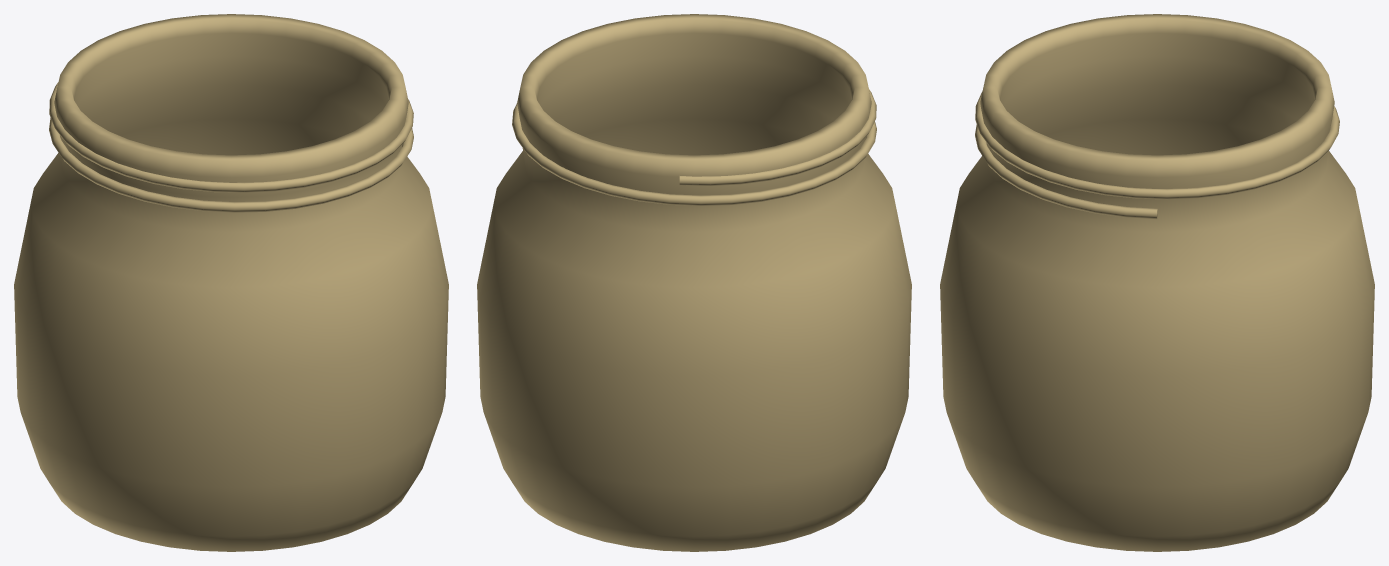
Rendered from pickleGlass.glb.
3 renders of one model, left to right at view 1: azimuth 30°, elevation 25°; view 2: azimuth 150°, elevation 25°; view 3: azimuth 270°, elevation 25°, orthographic.
Parts seen in each view (by area): view 1: FP218_pickleGlass; view 2: FP218_pickleGlass; view 3: FP218_pickleGlass.
Part boxes in pixels (x1=…): FP218_pickleGlass: x1=14, y1=14, x2=448, y2=551; FP218_pickleGlass: x1=477, y1=14, x2=911, y2=551; FP218_pickleGlass: x1=940, y1=14, x2=1374, y2=551.
Size of the model in its own units: 0.13 by 0.13 by 0.13.
